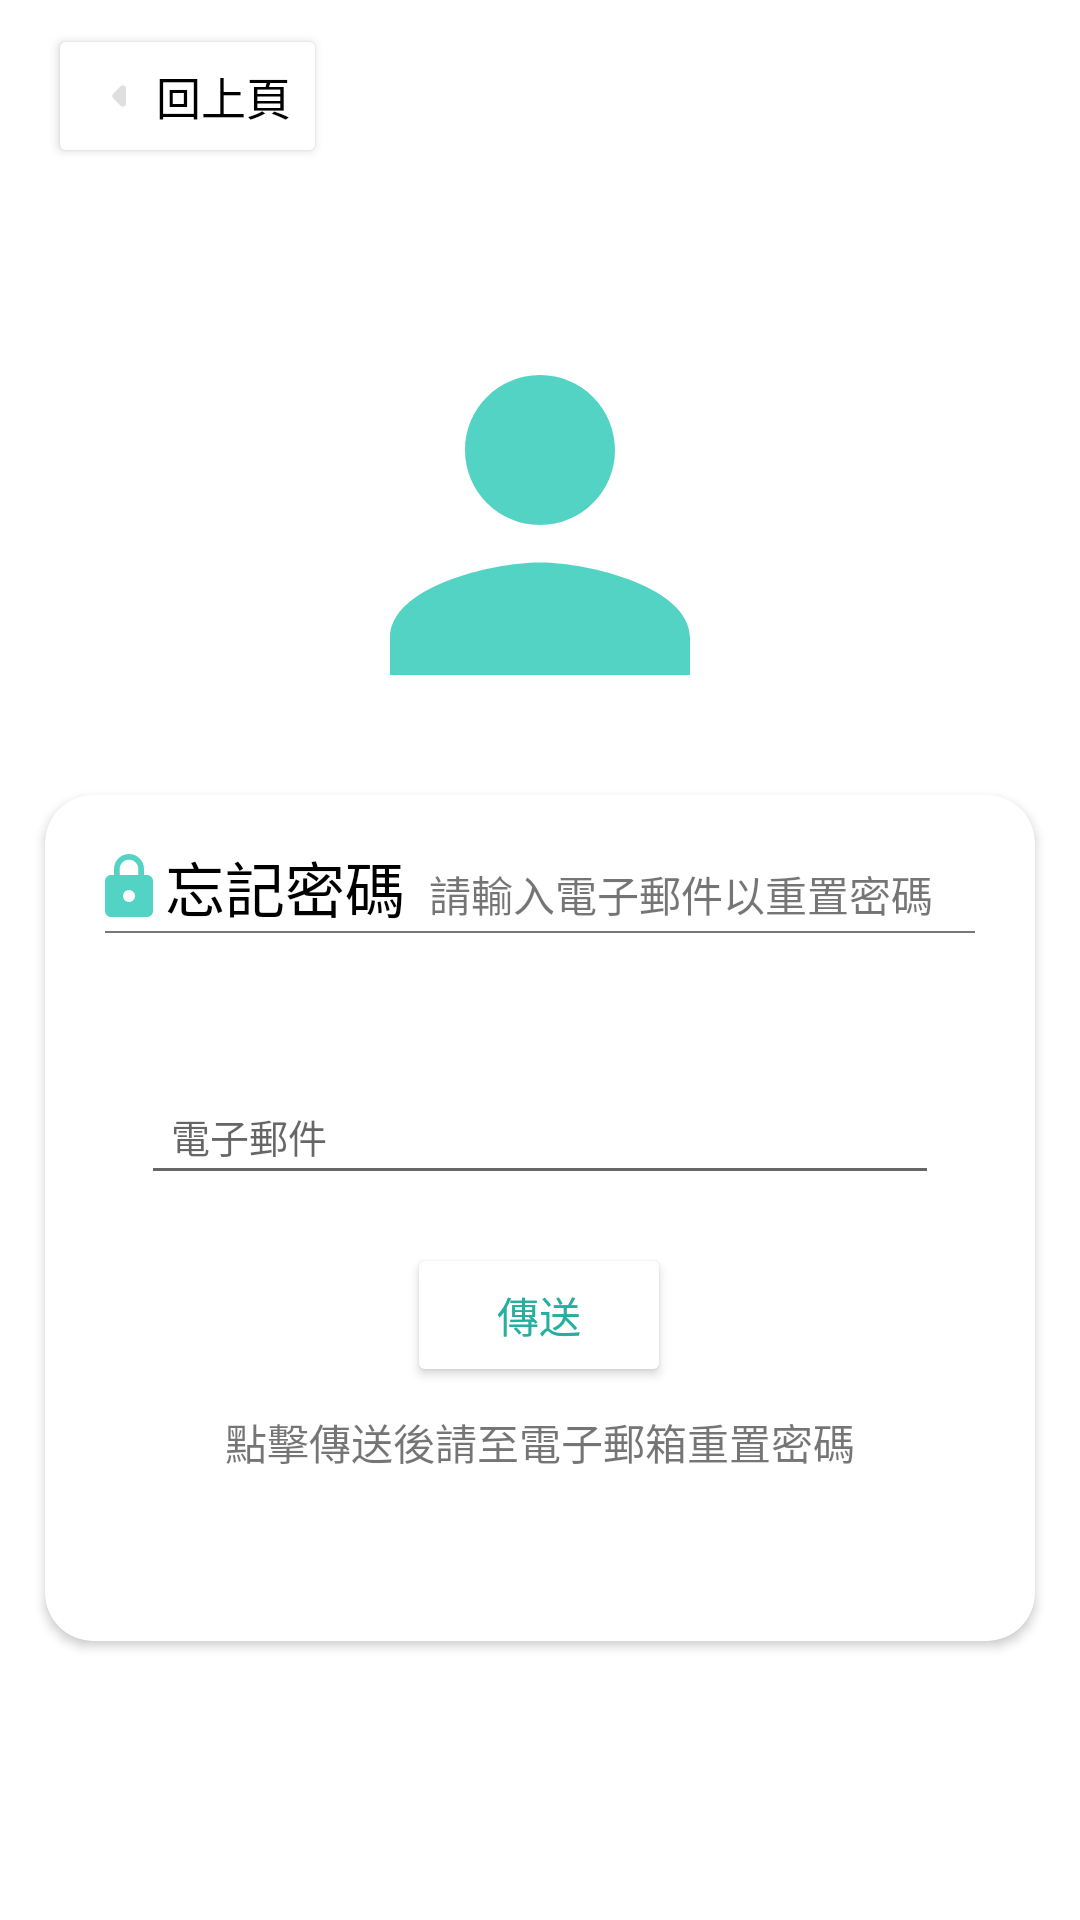

Icon click points for this 1080px×1920px phone screenshot, format point (x, y):
person: point (540, 525)
